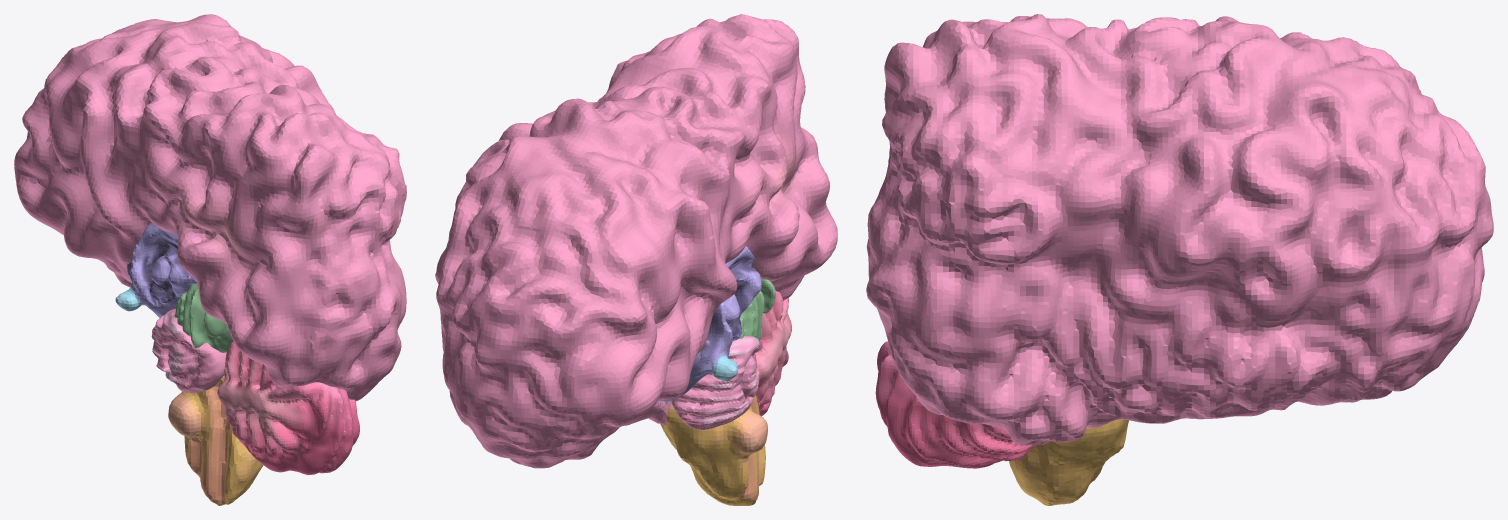
The model's file is przekrojfinal.fbx.
3 renders of one model, left to right at view 1: azimuth 30°, elevation 25°; view 2: azimuth 150°, elevation 25°; view 3: azimuth 270°, elevation 25°, orthographic. The views are drawn at different scales.
Parts seen in each view (by area): view 1: kresomozgowie, mozdzek, rdzen_przedluzony, miedzymozgowie, most, srodmozgowie; view 2: kresomozgowie, rdzen_przedluzony, most, miedzymozgowie, mozdzek, srodmozgowie; view 3: kresomozgowie, mozdzek, rdzen_przedluzony.
Part boxes in pixels (x1,y1,x2,y2): kresomozgowie: (14, 14, 406, 401); mozdzek: (217, 341, 359, 474); rdzen_przedluzony: (168, 375, 263, 505); miedzymozgowie: (115, 223, 196, 317); most: (151, 308, 226, 392); srodmozgowie: (174, 283, 233, 352); kresomozgowie: (435, 14, 837, 468); rdzen_przedluzony: (660, 395, 767, 505); most: (671, 336, 759, 429); miedzymozgowie: (657, 246, 761, 401); mozdzek: (755, 291, 791, 416); srodmozgowie: (739, 268, 775, 341); kresomozgowie: (866, 14, 1493, 445); mozdzek: (875, 341, 1034, 468); rdzen_przedluzony: (1009, 419, 1128, 505).
Bounding box in the file's own units: 391 × 654 × 741.
